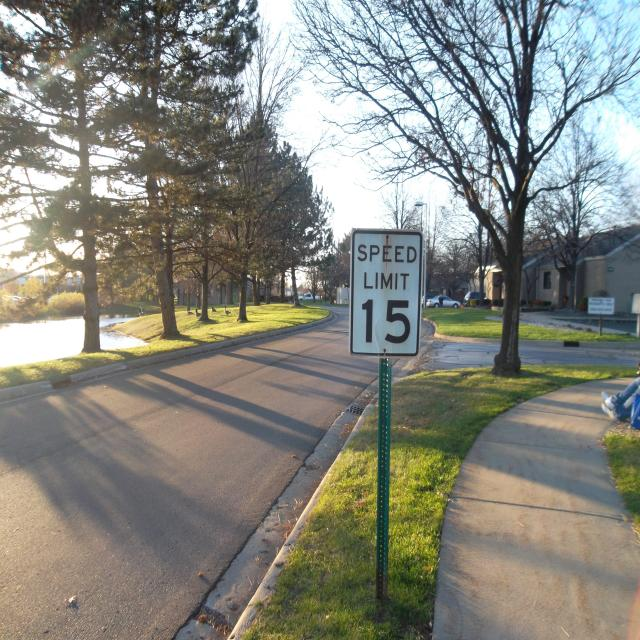regulatory: (346, 220, 423, 355)
